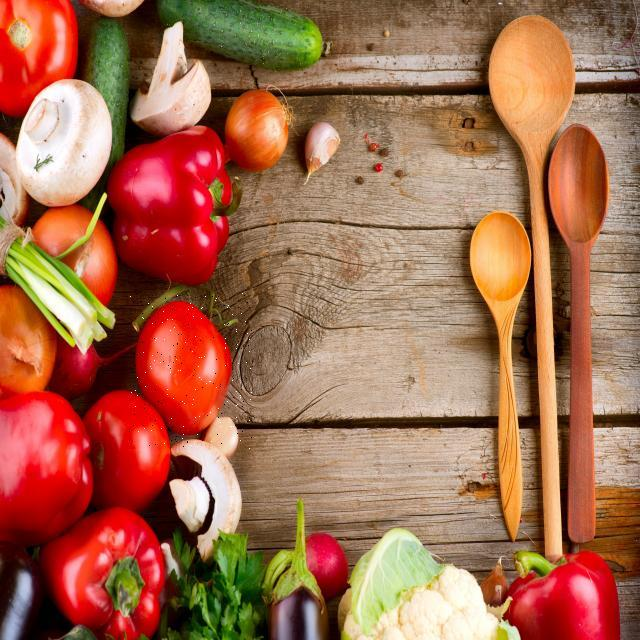Tomato: (129, 292, 253, 449)
